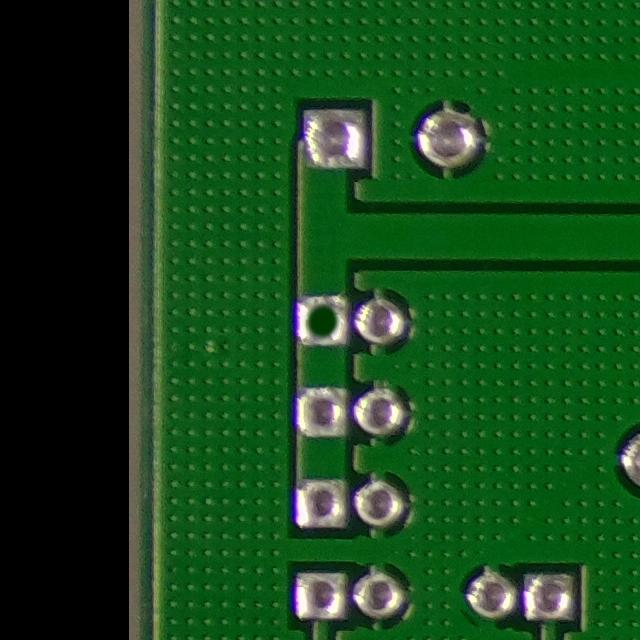missing_hole: (295, 287, 351, 354)
